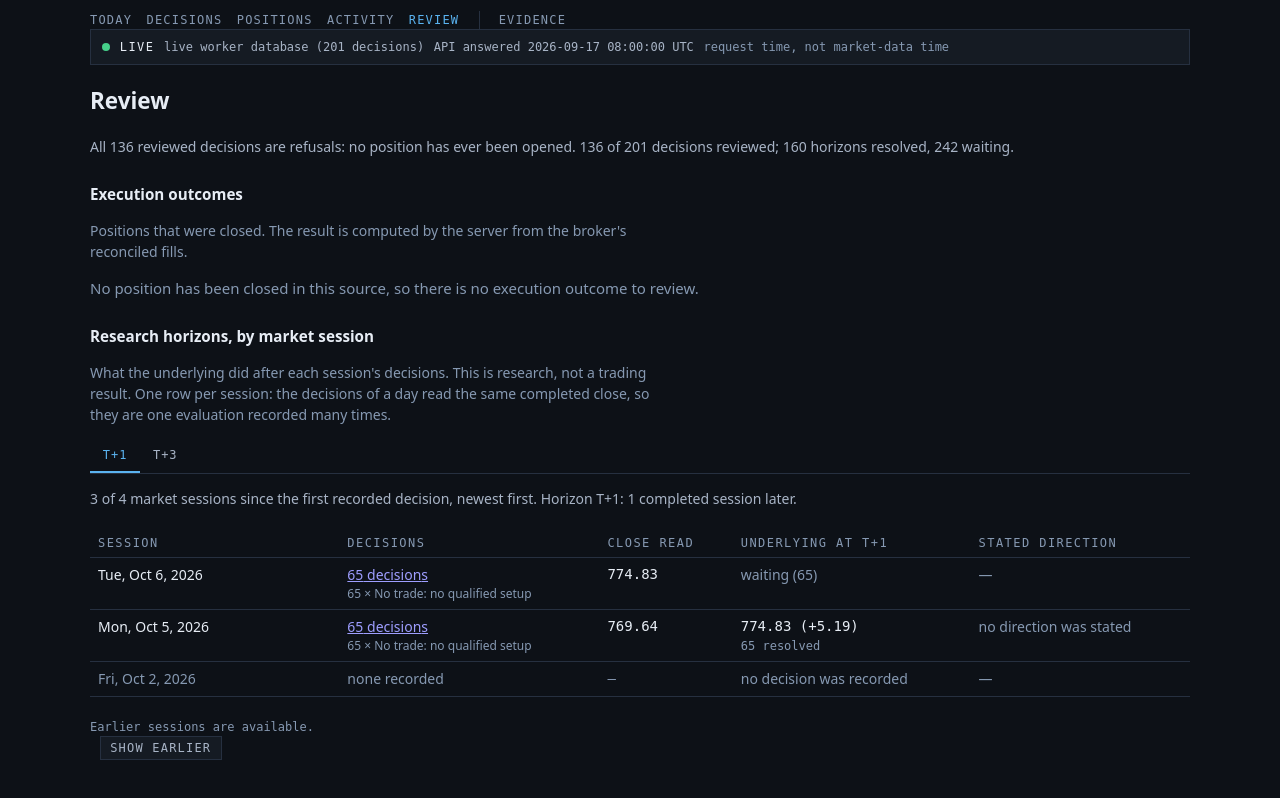
Test: Review (PUI phase 4) › pages to earlier sessions on the server's own value and counts agreement, not a rate
(page scrolled)
What coordinates should you click on to do the following:
click the button with test id "journal-more"
I would click on:
 (161, 748)
Its box is [100,736,222,760].
(page scrolled)
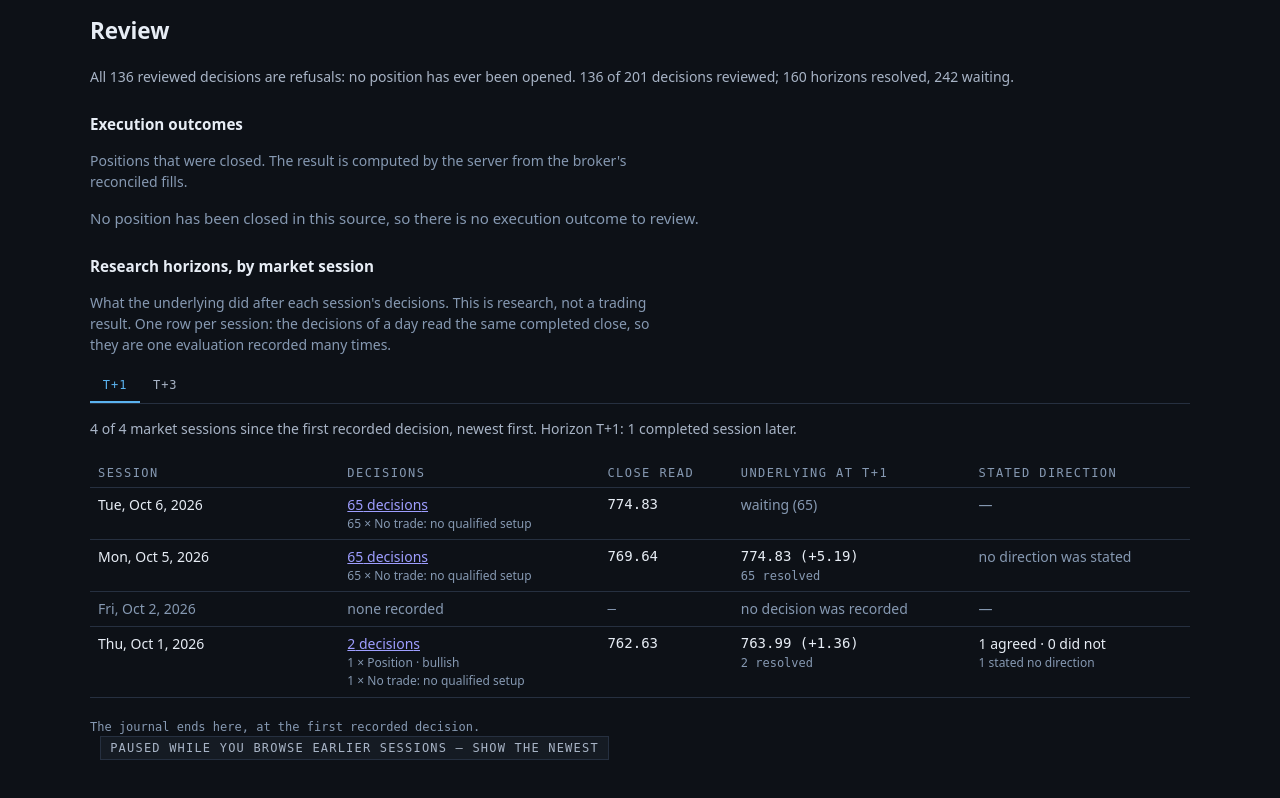
Expected: the number of rows with test id "journal-row" is 4, [90,487,1190,540]; [90,540,1190,592]; [90,592,1190,627]; [90,627,1190,697]
Expected: the row with test id "journal-row" shows "1 × Position · bullish", [347,654,460,672]
Expected: the row with test id "journal-row" shows "1 agreed · 0 did not", [90,627,1190,697]
